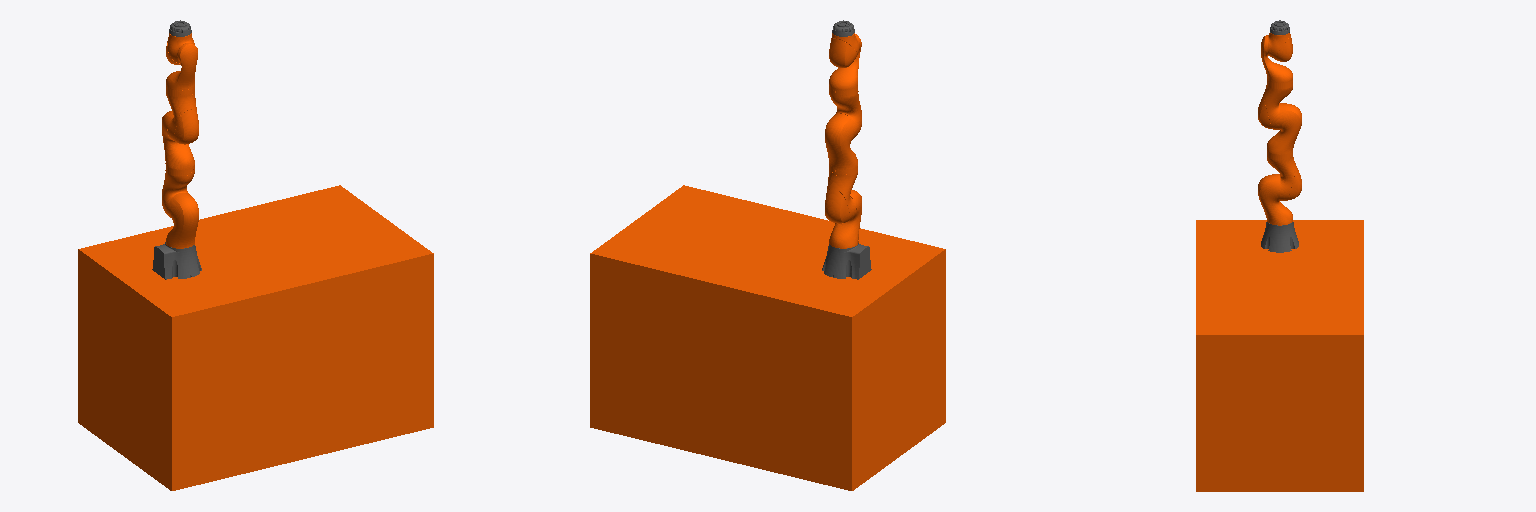
URDF robot description (iiwa7):
<?xml version="1.0" ?>
<!-- =================================================================================== -->
<!-- |    This document was autogenerated by xacro from [local-path]/kuka_ws/src/iiwa_bhand/iiwa_bhand_description/robots/iiwa7_bhand.urdf.xacro | -->
<!-- |    EDITING THIS FILE BY HAND IS NOT RECOMMENDED                                 | -->
<!-- =================================================================================== -->
<robot name="iiwa7">
  <material name="Black">
    <color rgba="0.0 0.0 0.0 1.0"/>
  </material>
  <material name="Blue">
    <color rgba="0.0 0.0 0.8 1.0"/>
  </material>
  <material name="Green">
    <color rgba="0.0 0.8 0.0 1.0"/>
  </material>
  <material name="Grey">
    <color rgba="0.4 0.4 0.4 1.0"/>
  </material>
  <material name="Orange">
    <color rgba="1.0 0.4235294117647059 0.0392156862745098 1.0"/>
  </material>
  <material name="Brown">
    <color rgba="0.8705882352941177 0.8117647058823529 0.7647058823529411 1.0"/>
  </material>
  <material name="Red">
    <color rgba="0.8 0.0 0.0 1.0"/>
  </material>
  <material name="White">
    <color rgba="1.0 1.0 1.0 1.0"/>
  </material>
  <!-- Fix to world just for testing -->
  <link name="world">
        <inertial>
      <origin rpy="0 0 0" xyz="0 0 0"/>
      <mass value="0"/>
      <inertia ixx="0" ixy="0" ixz="0" iyy="0" iyz="0" izz="0"/>
    </inertial>
  </link>
  <!--joint between {parent} and link_0-->
  <joint name="world_iiwa_joint" type="fixed">
    <origin rpy="0 0 0" xyz="0 0 0"/>
    <parent link="world"/>
    <child link="iiwa_link_0"/>
  </joint>
  <link name="iiwa_link_0">
    <inertial>
      <origin rpy="0 0 0" xyz="-0.1 0 0.07"/>
      <mass value="5"/>
      <inertia ixx="0.05" ixy="0" ixz="0" iyy="0.06" iyz="0" izz="0.03"/>
    </inertial>
    <visual>
      <origin rpy="0 0 0" xyz="0 0 0"/>
      <geometry>
        <mesh filename="package://iiwa_description/meshes/iiwa7/visual/link_0.obj"/>
      </geometry>
      <material name="Grey"/>
    </visual>
    <collision>
      <origin rpy="0 0 0" xyz="0 0 0"/>
      <geometry>
        <mesh filename="package://iiwa_description/meshes/iiwa7/collision/link_0.obj"/>
      </geometry>
      <material name="Grey"/>
    </collision>
    <self_collision_checking>
      <origin rpy="0 0 0" xyz="0 0 0"/>
      <geometry>
        <capsule length="0.25" radius="0.15"/>
      </geometry>
    </self_collision_checking>
  </link>
  <!-- joint between link_0 and link_1 -->
  <joint name="iiwa_joint_1" type="revolute">
    <parent link="iiwa_link_0"/>
    <child link="iiwa_link_1"/>
    <origin rpy="0 0 0" xyz="0 0 0.15"/>
    <axis xyz="0 0 1"/>
    <limit effort="300" lower="-2.9670597283903604" upper="2.9670597283903604" velocity="10"/>
    <safety_controller k_position="100" k_velocity="2" soft_lower_limit="-2.9321531433504737" soft_upper_limit="2.9321531433504737"/>
    <dynamics damping="0.5"/>
  </joint>
  <link name="iiwa_link_1">
    <inertial>
      <origin rpy="0 0 0" xyz="0 -0.03 0.12"/>
      <mass value="3.4525"/>
      <inertia ixx="0.02183" ixy="0" ixz="0" iyy="0.007703" iyz="-0.003887" izz="0.02083"/>
    </inertial>
    <visual>
      <origin rpy="0 0 0" xyz="0 0 0.0075"/>
      <geometry>
        <mesh filename="package://iiwa_description/meshes/iiwa7/visual/link_1.obj"/>
      </geometry>
      <material name="Orange"/>
    </visual>
    <collision>
      <origin rpy="0 0 0" xyz="0 0 0.0075"/>
      <geometry>
        <mesh filename="package://iiwa_description/meshes/iiwa7/collision/link_1.obj"/>
      </geometry>
      <material name="Orange"/>
    </collision>
  </link>
  <joint name="iiwa_joint_2" type="revolute">
    <parent link="iiwa_link_1"/>
    <child link="iiwa_link_2"/>
    <origin rpy="1.5707963267948966   0 3.141592653589793" xyz="0 0 0.19"/>
    <axis xyz="0 0 1"/>
    <limit effort="300" lower="-2.0943951023931953" upper="2.0943951023931953" velocity="10"/>
    <safety_controller k_position="100" k_velocity="2" soft_lower_limit="-2.0594885173533086" soft_upper_limit="2.0594885173533086"/>
    <dynamics damping="0.5"/>
  </joint>
  <link name="iiwa_link_2">
    <inertial>
      <origin rpy="0 0 0" xyz="0.0003 0.059 0.042"/>
      <mass value="3.4821"/>
      <inertia ixx="0.02076" ixy="0" ixz="-0.003626" iyy="0.02179" iyz="0" izz="0.00779"/>
    </inertial>
    <visual>
      <origin rpy="0 0 0" xyz="0 0 0"/>
      <geometry>
        <mesh filename="package://iiwa_description/meshes/iiwa7/visual/link_2.obj"/>
      </geometry>
      <material name="Orange"/>
    </visual>
    <collision>
      <origin rpy="0 0 0" xyz="0 0 0"/>
      <geometry>
        <mesh filename="package://iiwa_description/meshes/iiwa7/collision/link_2.obj"/>
      </geometry>
      <material name="Orange"/>
    </collision>
  </link>
  <joint name="iiwa_joint_3" type="revolute">
    <parent link="iiwa_link_2"/>
    <child link="iiwa_link_3"/>
    <origin rpy="1.5707963267948966 0 3.141592653589793" xyz="0 0.21 0"/>
    <axis xyz="0 0 1"/>
    <limit effort="300" lower="-2.9670597283903604" upper="2.9670597283903604" velocity="10"/>
    <safety_controller k_position="100" k_velocity="2" soft_lower_limit="-2.9321531433504737" soft_upper_limit="2.9321531433504737"/>
    <dynamics damping="0.5"/>
  </joint>
  <link name="iiwa_link_3">
    <inertial>
      <origin rpy="0 0 0" xyz="0 0.03 0.13"/>
      <mass value="4.05623"/>
      <inertia ixx="0.03204" ixy="0" ixz="0" iyy="0.00972" iyz="0.006227" izz="0.03042"/>
    </inertial>
    <visual>
      <origin rpy="0 0 0" xyz="0 0 -0.026"/>
      <geometry>
        <mesh filename="package://iiwa_description/meshes/iiwa7/visual/link_3.obj"/>
      </geometry>
      <material name="Orange"/>
    </visual>
    <collision>
      <origin rpy="0 0 0" xyz="0 0 -0.026"/>
      <geometry>
        <mesh filename="package://iiwa_description/meshes/iiwa7/collision/link_3.obj"/>
      </geometry>
      <material name="Orange"/>
    </collision>
  </link>
  <joint name="iiwa_joint_4" type="revolute">
    <parent link="iiwa_link_3"/>
    <child link="iiwa_link_4"/>
    <origin rpy="1.5707963267948966 0 0" xyz="0 0 0.19"/>
    <axis xyz="0 0 1"/>
    <limit effort="300" lower="-2.0943951023931953" upper="2.0943951023931953" velocity="10"/>
    <safety_controller k_position="100" k_velocity="2" soft_lower_limit="-2.0594885173533086" soft_upper_limit="2.0594885173533086"/>
    <dynamics damping="0.5"/>
  </joint>
  <link name="iiwa_link_4">
    <inertial>
      <origin rpy="0 0 0" xyz="0 0.067 0.034"/>
      <mass value="3.4822"/>
      <inertia ixx="0.02178" ixy="0" ixz="0" iyy="0.02075" iyz="-0.003625" izz="0.007785"/>
    </inertial>
    <visual>
      <origin rpy="0 0 0" xyz="0 0 0"/>
      <geometry>
        <mesh filename="package://iiwa_description/meshes/iiwa7/visual/link_4.obj"/>
      </geometry>
      <material name="Orange"/>
    </visual>
    <collision>
      <origin rpy="0 0 0" xyz="0 0 0"/>
      <geometry>
        <mesh filename="package://iiwa_description/meshes/iiwa7/collision/link_4.obj"/>
      </geometry>
      <material name="Orange"/>
    </collision>
  </link>
  <joint name="iiwa_joint_5" type="revolute">
    <parent link="iiwa_link_4"/>
    <child link="iiwa_link_5"/>
    <origin rpy="-1.5707963267948966 3.141592653589793 0" xyz="0 0.21 0"/>
    <axis xyz="0 0 1"/>
    <limit effort="300" lower="-2.9670597283903604" upper="2.9670597283903604" velocity="10"/>
    <safety_controller k_position="100" k_velocity="2" soft_lower_limit="-2.9321531433504737" soft_upper_limit="2.9321531433504737"/>
    <dynamics damping="0.5"/>
  </joint>
  <link name="iiwa_link_5">
    <inertial>
      <origin rpy="0 0 0" xyz="0.0001 0.021 0.076"/>
      <mass value="2.1633"/>
      <inertia ixx="0.01287" ixy="0" ixz="0" iyy="0.005708" iyz="-0.003946" izz="0.01112"/>
    </inertial>
    <visual>
      <origin rpy="0 0 0" xyz="0 0 -0.026"/>
      <geometry>
        <mesh filename="package://iiwa_description/meshes/iiwa7/visual/link_5.obj"/>
      </geometry>
      <material name="Orange"/>
    </visual>
    <collision>
      <origin rpy="0 0 0" xyz="0 0 -0.026"/>
      <geometry>
        <mesh filename="package://iiwa_description/meshes/iiwa7/collision/link_5.obj"/>
      </geometry>
      <material name="Orange"/>
    </collision>
  </link>
  <joint name="iiwa_joint_6" type="revolute">
    <parent link="iiwa_link_5"/>
    <child link="iiwa_link_6"/>
    <origin rpy="1.5707963267948966 0 0" xyz="0 0.06070 0.19"/>
    <axis xyz="0 0 1"/>
    <limit effort="300" lower="-2.0943951023931953" upper="2.0943951023931953" velocity="10"/>
    <safety_controller k_position="100" k_velocity="2" soft_lower_limit="-2.0594885173533086" soft_upper_limit="2.0594885173533086"/>
    <dynamics damping="0.5"/>
  </joint>
  <link name="iiwa_link_6">
    <inertial>
      <origin rpy="0 0 0" xyz="0 0.0006 0.0004"/>
      <mass value="2.3466"/>
      <inertia ixx="0.006509" ixy="0" ixz="0" iyy="0.006259" iyz="0.00031891" izz="0.004527"/>
    </inertial>
    <visual>
      <origin rpy="0 0 0" xyz="0 0 0"/>
      <geometry>
        <mesh filename="package://iiwa_description/meshes/iiwa7/visual/link_6.obj"/>
      </geometry>
      <material name="Orange"/>
    </visual>
    <collision>
      <origin rpy="0 0 0" xyz="0 0 0"/>
      <geometry>
        <mesh filename="package://iiwa_description/meshes/iiwa7/collision/link_6.obj"/>
      </geometry>
      <material name="Orange"/>
    </collision>
  </link>
  <joint name="iiwa_joint_7" type="revolute">
    <parent link="iiwa_link_6"/>
    <child link="iiwa_link_7"/>
    <origin rpy="-1.5707963267948966 3.141592653589793 0" xyz="0 0.081 0.06070"/>
    <axis xyz="0 0 1"/>
    <limit effort="300" lower="-3.0543261909900763" upper="3.0543261909900763" velocity="10"/>
    <safety_controller k_position="100" k_velocity="2" soft_lower_limit="-3.01941960595019" soft_upper_limit="3.01941960595019"/>
    <dynamics damping="0.5"/>
  </joint>
  <link name="iiwa_link_7">
    <inertial>
      <origin rpy="0 0 0" xyz="0 0 0.02"/>
      <mass value="3.129"/>
      <inertia ixx="0.01464" ixy="0.0005912" ixz="0" iyy="0.01465" iyz="0" izz="0.002872"/>
    </inertial>
    <visual>
      <origin rpy="0 0 0" xyz="0 0 -0.0005"/>
      <geometry>
        <mesh filename="package://iiwa_description/meshes/iiwa7/visual/link_7.obj"/>
      </geometry>
      <material name="Grey"/>
    </visual>
    <collision>
      <origin rpy="0 0 0" xyz="0 0 -0.0005"/>
      <geometry>
        <mesh filename="package://iiwa_description/meshes/iiwa7/collision/link_7.obj"/>
      </geometry>
      <material name="Grey"/>
    </collision>
  </link>
  <joint name="iiwa_joint_ee" type="fixed">
    <parent link="iiwa_link_7"/>
    <child link="iiwa_link_ee"/>
    <origin rpy="0 0 0" xyz="0 0 0.045"/>
  </joint>
  <link name="iiwa_link_ee">
      <inertial>
      <origin rpy="0 0 0" xyz="0 0 0"/>
      <mass value="0"/>
      <inertia ixx="0" ixy="0" ixz="0" iyy="0" iyz="0" izz="0"/>
    </inertial>
  </link>
  <joint name="hand_joint" type="fixed">
    <origin rpy="0 0 1.57" xyz="0 0 0"/>
    <parent link="iiwa_link_ee"/>
    <child link="hand_base_link"/>
  </joint>
  <link name="hand_base_link">
    <inertial>
      <origin rpy="0 0 0" xyz="0 0 0"/>
      <mass value="0"/>
      <inertia ixx="0" ixy="0" ixz="0" iyy="0" iyz="0" izz="0"/>
    </inertial>
  </link>
  <link name="table1">
    <inertial>
      <mass value="10.0"/>
      <inertia ixx="1.25" ixy="0.00" ixz="0.0" iyy="2.24" iyz="0.0" izz="2.2"/>
    </inertial>
    <visual>
      <geometry>
        <mesh filename="package://bullet_ros_kuka/meshes/visual/table1.obj"/>
      </geometry>
      <material name="Orange"/>
      <origin rpy="0 0 0" xyz="0 0 -0.44"/>
    </visual>
    <collision>
      <geometry>
        <mesh filename="package://bullet_ros_kuka/meshes/collision/table1.obj"/>
      </geometry>
      <material name="Red"/>
      <origin rpy="0 0 0" xyz="0 0 -0.44"/>
    </collision>
  </link>
  <joint name="table1_joint" type="fixed">
    <origin rpy="0 0 0" xyz="0.4 0.0 0.02"/>
    <!--May be too harsh, change to lower in Z if you want the robot to go lower-->
    <parent link="world"/>
    <child link="table1"/>
  </joint>
  <link name="table1_mount">
    <inertial>
      <origin rpy="0 0 0" xyz="0 0 0"/>
      <mass value="0"/>
      <inertia ixx="0" ixy="0" ixz="0" iyy="0" iyz="0" izz="0"/>
    </inertial>
  </link>
  <joint name="table1_mount_joint" type="fixed">
    <origin rpy="0 0 0" xyz="-0.4625 0 0"/>
    <parent link="table1"/>
    <child link="table1_mount"/>
  </joint>

</robot>

--- Facts derived from the render (not from the file) ---
Views: 3 orthographic renders of the robot side by side, from view 1: azimuth 30°, elevation 25°; view 2: azimuth 150°, elevation 25°; view 3: azimuth 270°, elevation 25°.
Model iiwa7 with 13 links and 12 joints (7 revolute, 5 fixed), rooted at world, posed all joints at 0.
Visible links, largest first — view 1: table1, iiwa_link_1, iiwa_link_0, iiwa_link_4, iiwa_link_5, iiwa_link_3, iiwa_link_2; view 2: table1, iiwa_link_3, iiwa_link_0, iiwa_link_2, iiwa_link_1, iiwa_link_5, iiwa_link_6, iiwa_link_4; view 3: table1, iiwa_link_3, iiwa_link_1, iiwa_link_0, iiwa_link_4, iiwa_link_2, iiwa_link_5, iiwa_link_6.
Boxes of the visible links, x1,y1,x2,y2 form: table1: [78, 185, 433, 490]; iiwa_link_1: [166, 193, 198, 248]; iiwa_link_0: [152, 242, 201, 279]; iiwa_link_4: [166, 93, 198, 144]; iiwa_link_5: [166, 43, 197, 96]; iiwa_link_3: [162, 111, 194, 175]; iiwa_link_2: [162, 170, 194, 217]; table1: [590, 185, 945, 490]; iiwa_link_3: [825, 114, 857, 175]; iiwa_link_0: [822, 243, 871, 279]; iiwa_link_2: [825, 172, 857, 223]; iiwa_link_1: [829, 190, 861, 248]; iiwa_link_5: [829, 34, 861, 96]; iiwa_link_6: [829, 33, 859, 67]; iiwa_link_4: [829, 91, 861, 138]; table1: [1196, 220, 1363, 491]; iiwa_link_3: [1267, 103, 1301, 159]; iiwa_link_1: [1258, 174, 1292, 225]; iiwa_link_0: [1261, 222, 1298, 252]; iiwa_link_4: [1258, 85, 1292, 129]; iiwa_link_2: [1267, 157, 1301, 200]; iiwa_link_5: [1261, 35, 1292, 88]; iiwa_link_6: [1268, 33, 1292, 61].
Size in the robot's own frame: 1.39 by 0.855 by 2.13 metres.
9 mesh visuals loaded from 9 distinct referenced files (9 OBJ).